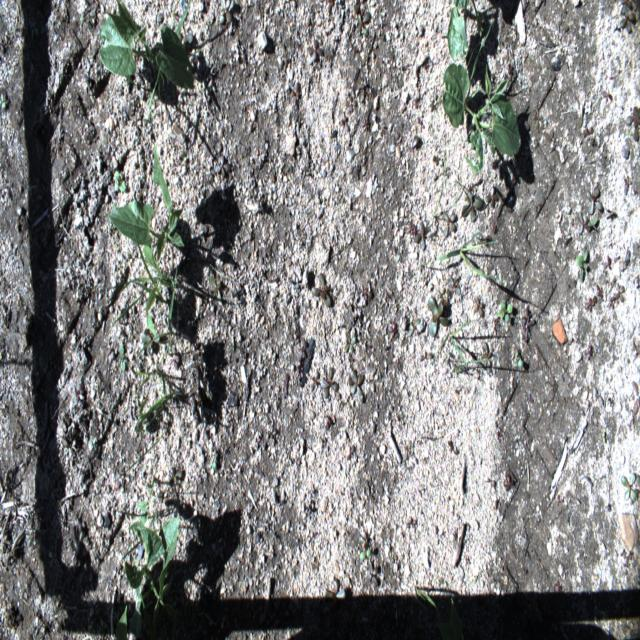crop: (97, 0, 195, 95)
weed: (105, 141, 186, 257), (122, 474, 179, 624), (132, 226, 178, 352), (464, 74, 521, 172), (437, 54, 481, 129), (135, 386, 172, 434), (446, 0, 470, 63), (453, 242, 492, 278), (147, 62, 162, 123), (449, 330, 467, 372), (475, 10, 491, 52), (574, 248, 588, 282), (116, 602, 128, 640), (208, 278, 222, 308), (415, 589, 438, 607), (496, 298, 514, 320), (134, 368, 152, 386), (167, 288, 176, 324), (448, 595, 457, 629), (438, 302, 448, 327), (114, 172, 126, 191), (344, 332, 353, 354), (471, 356, 488, 366), (436, 252, 452, 262), (459, 319, 471, 332), (462, 204, 475, 216), (358, 550, 372, 560), (118, 306, 129, 318), (586, 217, 599, 227), (437, 623, 445, 639), (428, 301, 435, 314), (155, 367, 164, 377), (472, 200, 482, 209), (0, 100, 7, 112), (622, 478, 630, 488), (122, 281, 130, 290), (519, 354, 524, 368), (23, 331, 28, 344), (473, 574, 478, 586), (28, 256, 32, 268), (366, 12, 369, 24)
